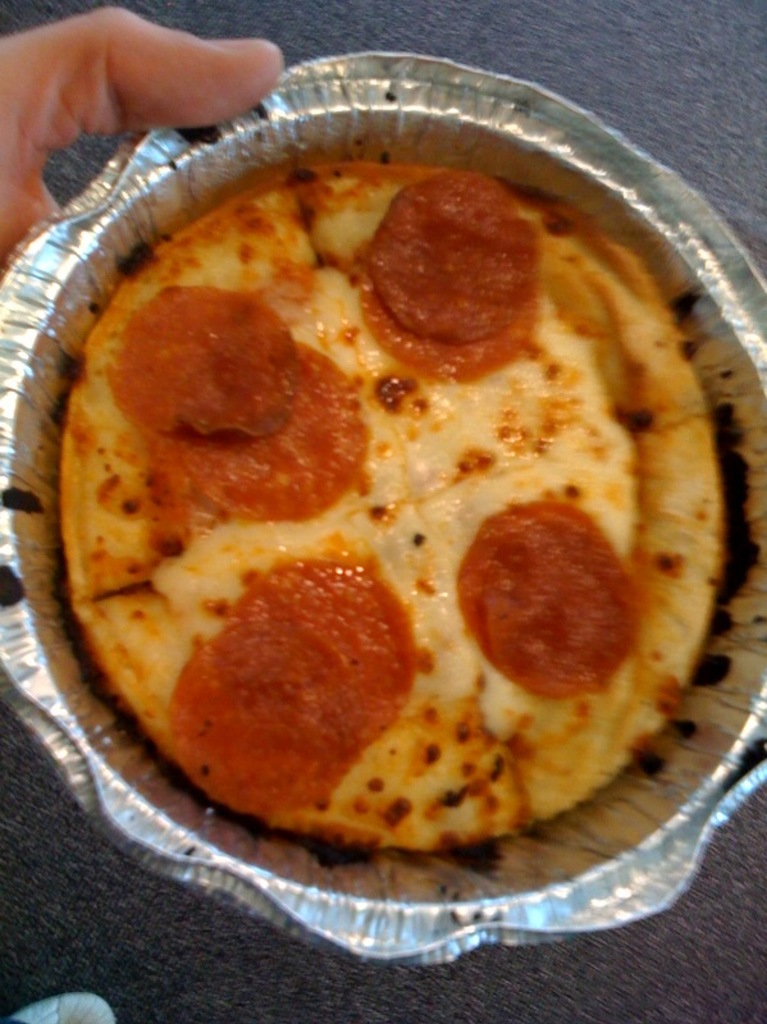pizza: (33, 92, 767, 882)
